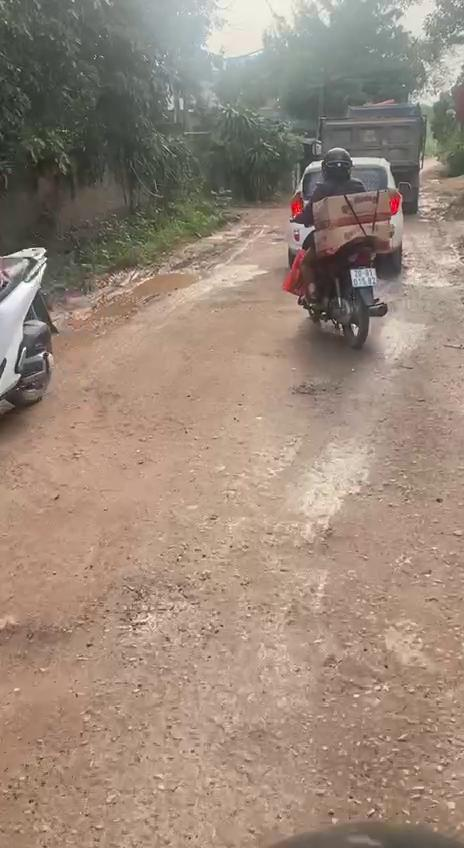pothole: (0, 572, 216, 705), (85, 265, 208, 328)
